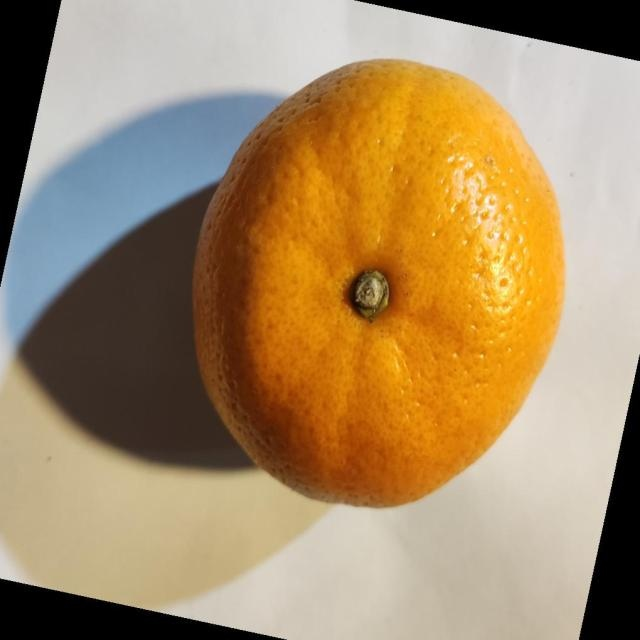agrume: (190, 57, 566, 510)
